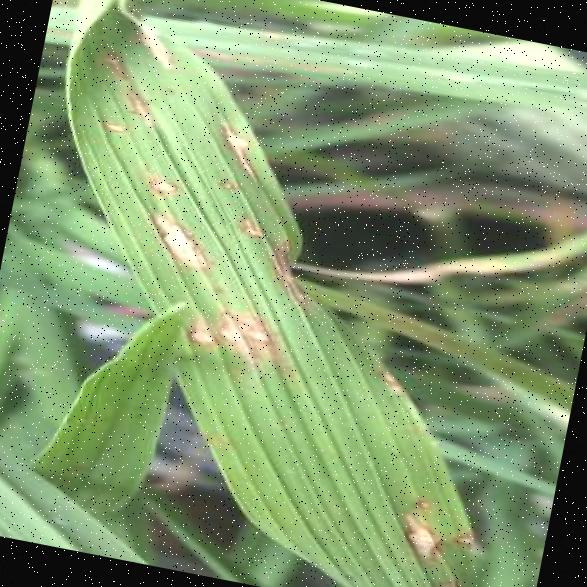Leaf_smut: (122, 193, 216, 276), (194, 101, 271, 183), (386, 486, 456, 564), (114, 9, 188, 68), (126, 150, 192, 214), (210, 186, 271, 250), (112, 70, 168, 128), (190, 154, 249, 208), (171, 304, 216, 364), (88, 102, 144, 148), (236, 306, 286, 356), (93, 35, 139, 81), (208, 304, 249, 349)
